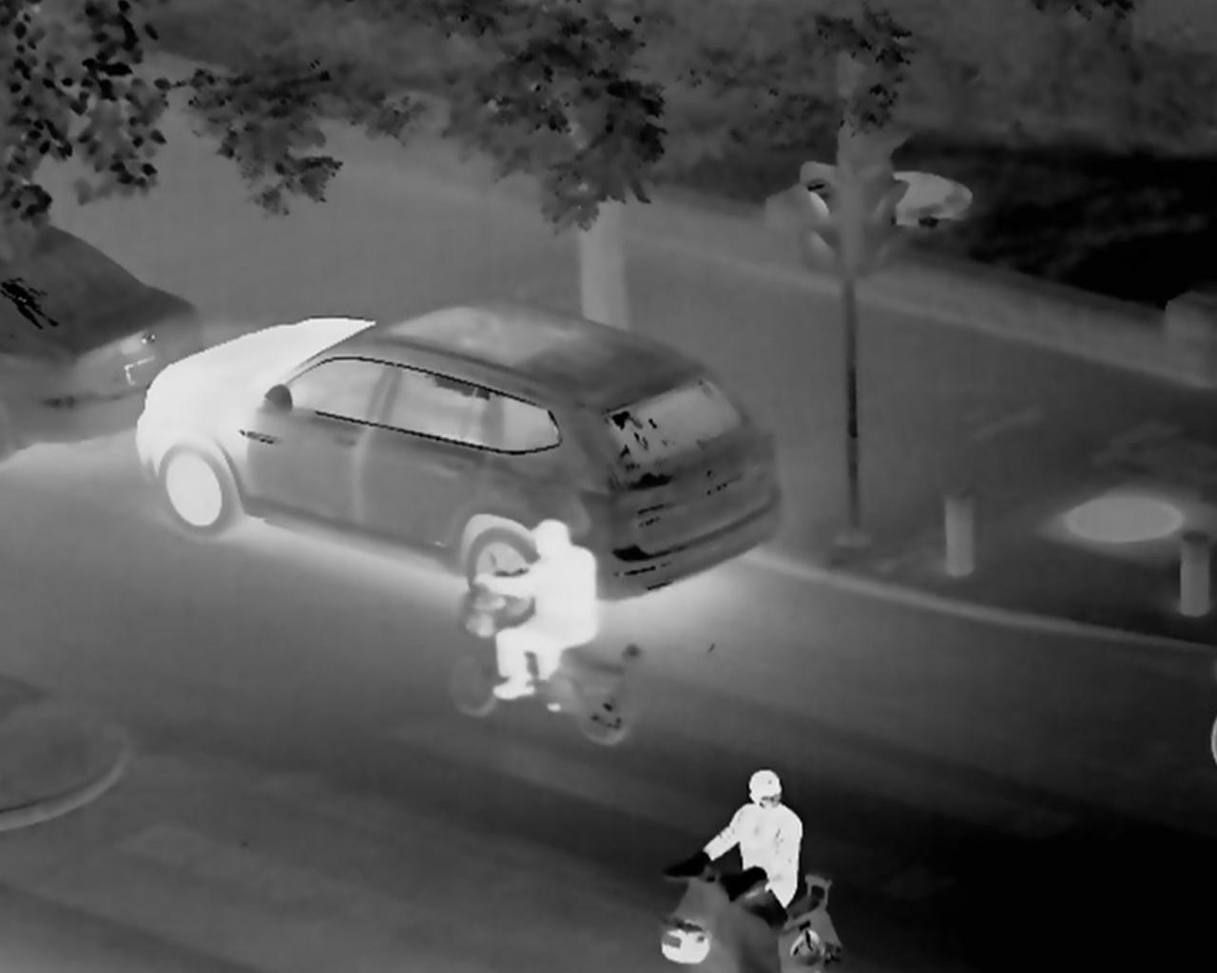person: (713, 765, 842, 933), (492, 507, 604, 681)
